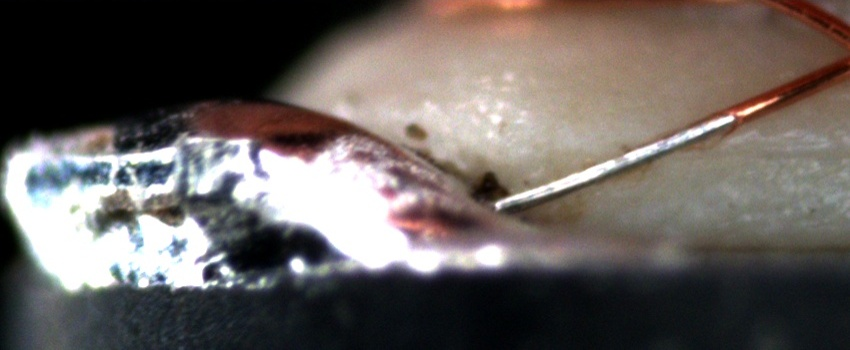CL: (830, 22, 850, 78)
DL: (702, 122, 850, 179)
TS: (494, 111, 735, 212)
